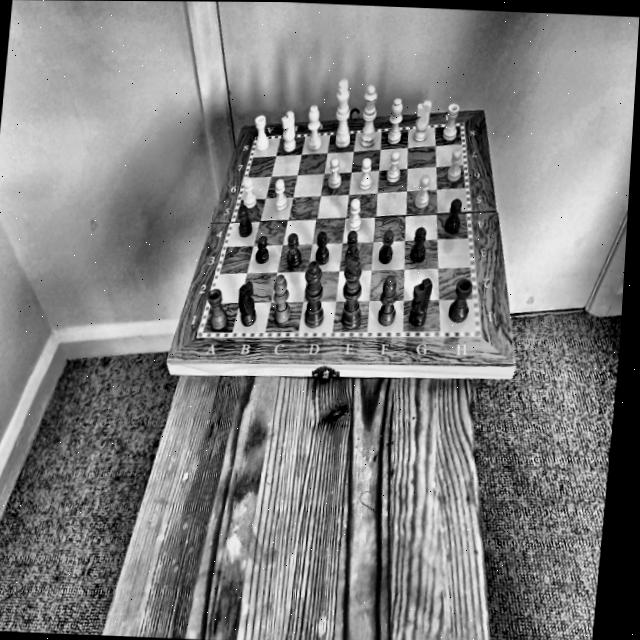black-bishop: (375, 272, 400, 331), (268, 271, 295, 323)
black-king: (334, 251, 367, 330)
black-knight: (404, 274, 433, 329), (233, 278, 262, 327)
black-pawn: (309, 227, 335, 269), (280, 229, 305, 268), (231, 202, 257, 239), (408, 224, 429, 265), (442, 196, 464, 234), (342, 228, 365, 263), (376, 226, 396, 265), (251, 233, 274, 265)
black-queen: (298, 258, 330, 330)
black-rook: (444, 276, 474, 325), (202, 286, 233, 329)
white-bishop: (302, 102, 326, 153), (384, 94, 405, 146)
white-king: (329, 76, 357, 149)
white-knight: (274, 109, 301, 153), (409, 98, 434, 144)
white-pawn: (269, 175, 291, 213), (238, 174, 260, 210), (356, 151, 375, 192), (411, 173, 432, 210), (324, 155, 345, 191), (344, 195, 364, 232), (444, 146, 464, 183), (384, 148, 403, 186)
white-queen: (356, 83, 381, 149)
white-rook: (248, 112, 271, 152), (441, 99, 459, 141)
